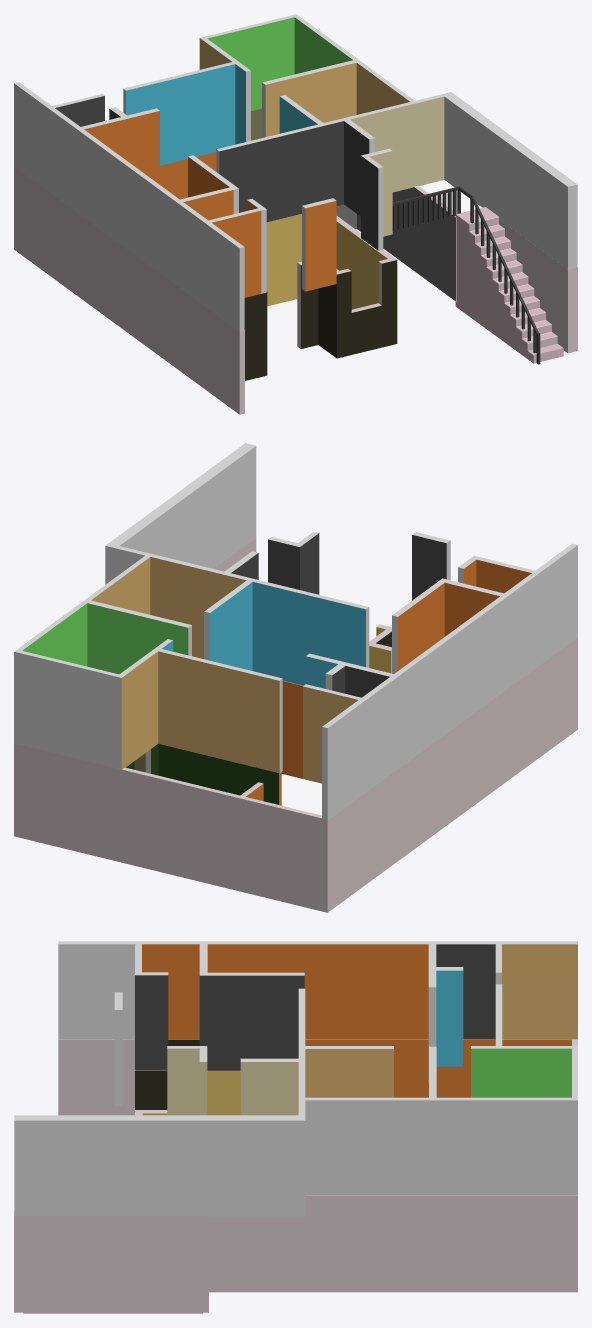
Rendered from Envi 2update.fbx.
The picture shows the model from 3 angles, top to bottom: view 1: azimuth 30°, elevation 25°; view 2: azimuth 150°, elevation 25°; view 3: azimuth 270°, elevation 25°; orthographic projection. The views are drawn at different scales.
Visible parts, largest first — view 1: Cube.001, Cube, Cube.079, Cube.050; view 2: Cube.001, Cube; view 3: Cube.001, Cube.
Boxes of the visible parts, x1,y1,x2,y2 form: Cube.001: (14, 14, 577, 331); Cube: (14, 108, 577, 414); Cube.079: (455, 207, 563, 363); Cube.050: (392, 186, 540, 364); Cube.001: (14, 443, 577, 820); Cube: (14, 537, 577, 912); Cube.001: (14, 941, 577, 1216); Cube: (14, 1039, 577, 1312).
Size of the model in its own units: 2332 by 1204 by 3099.
